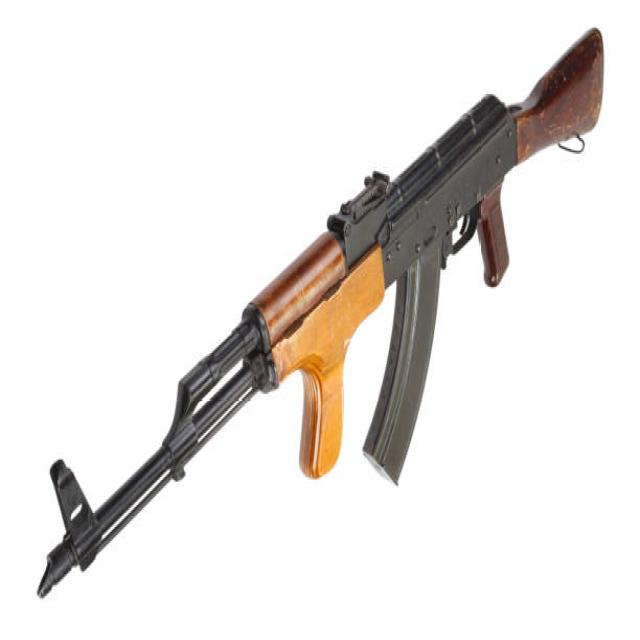rifle: (29, 18, 616, 618)
